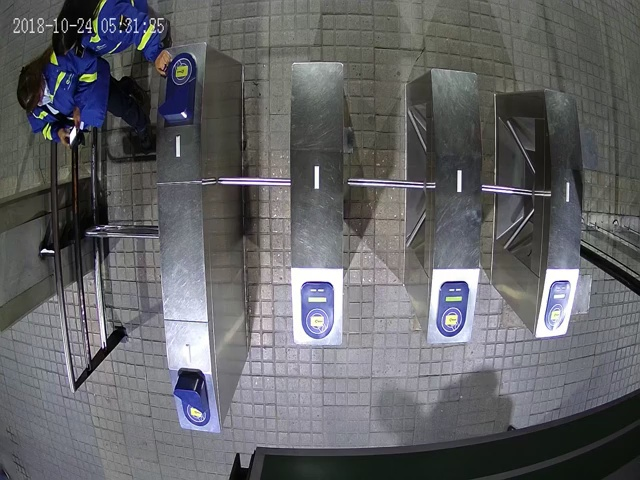Chaleco_azul: (16, 46, 151, 143), (51, 1, 172, 76)
